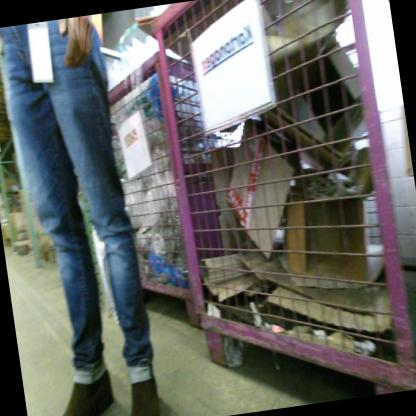stillage: (148, 0, 416, 416), (67, 26, 308, 349)
